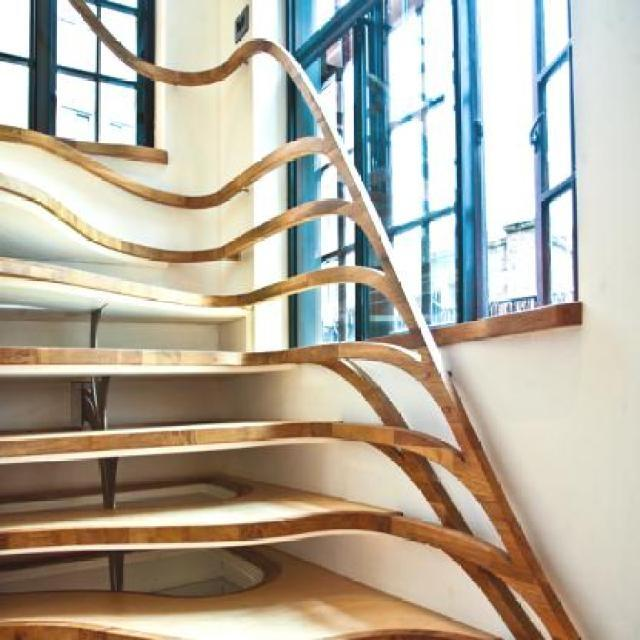stair: (0, 23, 622, 640)
